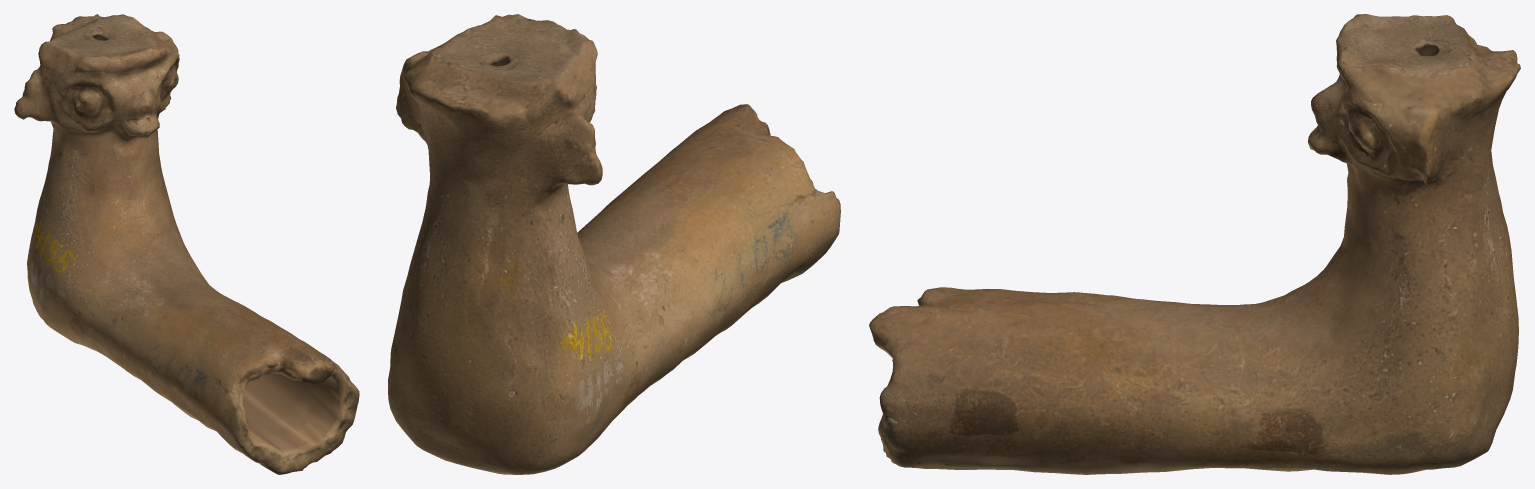
3 renders of one model, left to right at view 1: azimuth 30°, elevation 25°; view 2: azimuth 150°, elevation 25°; view 3: azimuth 270°, elevation 25°, orthographic. The views are drawn at different scales.
Visible parts, largest first — view 1: MA0891; view 2: MA0891; view 3: MA0891.
Boxes of the visible parts, left/top/right/bottom form: MA0891: left=14, top=14, right=359, bottom=474; MA0891: left=388, top=14, right=840, bottom=474; MA0891: left=869, top=14, right=1520, bottom=474.
Bounding box in the file's own units: 0.0513 × 0.0947 × 0.1351.
Materials: 1 (1 with a texture image).
